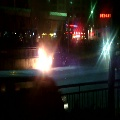fire: (33, 46, 52, 70)
